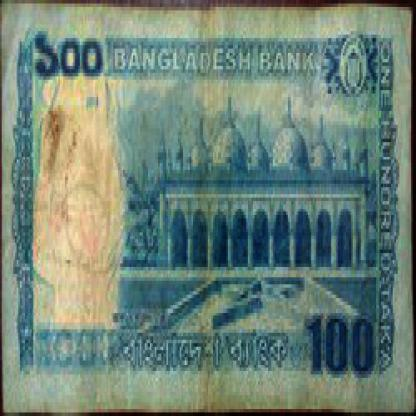one hundred taka: (306, 302, 379, 395), (30, 28, 108, 100)
